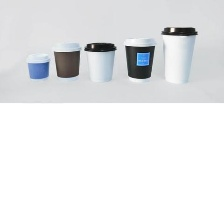paper_cup: (156, 22, 200, 87), (120, 33, 159, 85), (80, 39, 119, 85), (48, 38, 83, 81), (22, 49, 53, 83)
